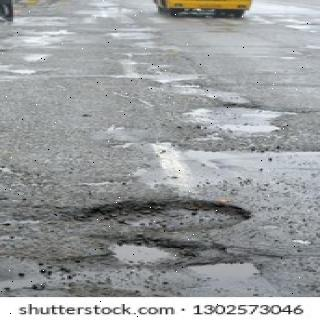pothole: (107, 196, 253, 235)
